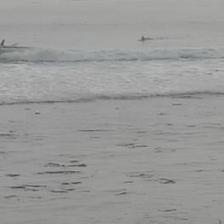surfer: (138, 35, 152, 41), (0, 39, 5, 47)
